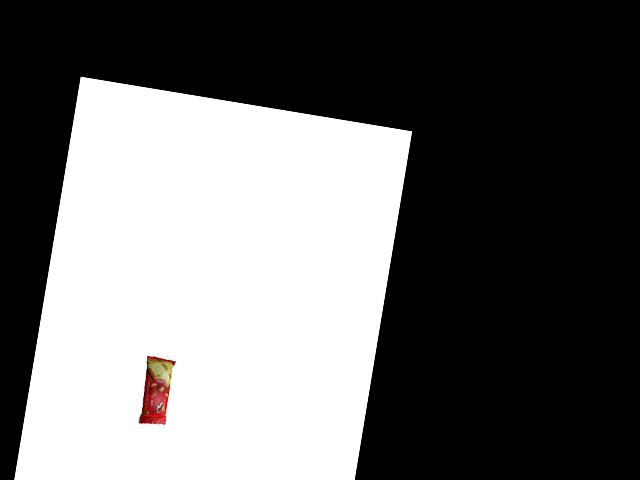chocolate: (131, 354, 177, 432)
